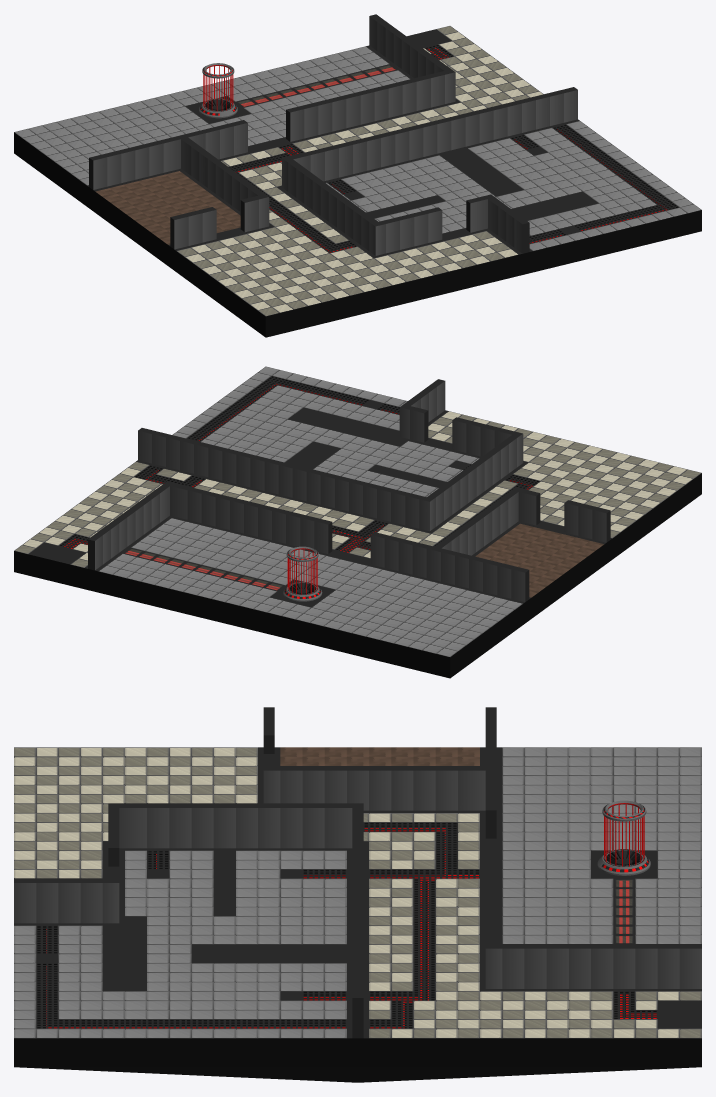
File: Vault Laser Grid redo, + some old stuff.FBX
3 views of the same model, one above another, from view 1: azimuth 30°, elevation 25°; view 2: azimuth 150°, elevation 25°; view 3: azimuth 270°, elevation 25° (orthographic). The views are drawn at different scales.
Visible parts, largest first — view 1: Vault Floor Layout, All rooms Walls, Land Chunk, Wire Cover Grate, Wire Cover Vault, Laser Roof, Laser Base, Wire 5 Laser; view 2: Vault Floor Layout, All rooms Walls, Land Chunk, Wire Cover Grate, Wire Cover Vault, Laser Roof, Laser Base, Wire 5 Laser; view 3: Vault Floor Layout, All rooms Walls, Land Chunk, Wire Cover Grate, Laser Roof, Wire Cover Vault, Laser Base, Wire 4, Wire 5 Laser.
Part boxes in pixels (bbox=[...]): Vault Floor Layout: bbox=[14, 26, 701, 316]; All rooms Walls: bbox=[89, 14, 577, 255]; Land Chunk: bbox=[14, 132, 701, 337]; Wire Cover Grate: bbox=[229, 44, 679, 253]; Wire Cover Vault: bbox=[236, 64, 397, 107]; Laser Roof: bbox=[202, 63, 234, 111]; Laser Base: bbox=[199, 98, 237, 118]; Wire 5 Laser: bbox=[241, 48, 448, 106]; Vault Floor Layout: bbox=[14, 366, 701, 656]; All rooms Walls: bbox=[88, 379, 610, 601]; Land Chunk: bbox=[14, 473, 701, 678]; Wire Cover Grate: bbox=[58, 376, 540, 552]; Wire Cover Vault: bbox=[123, 547, 285, 591]; Laser Roof: bbox=[286, 546, 318, 594]; Laser Base: bbox=[283, 582, 322, 601]; Wire 5 Laser: bbox=[64, 539, 279, 590]; Vault Floor Layout: bbox=[14, 747, 701, 1038]; All rooms Walls: bbox=[14, 707, 701, 1038]; Land Chunk: bbox=[14, 1038, 701, 1082]; Wire Cover Grate: bbox=[36, 822, 657, 1028]; Laser Roof: bbox=[602, 800, 646, 866]; Wire Cover Vault: bbox=[613, 878, 635, 943]; Laser Base: bbox=[597, 849, 650, 875]; Wire 4: bbox=[46, 879, 434, 1028]; Wire 5 Laser: bbox=[619, 880, 656, 1018].
Size of the model in its own units: 31 by 12.24 by 31.
Materials: 12 (6 with a texture image).
